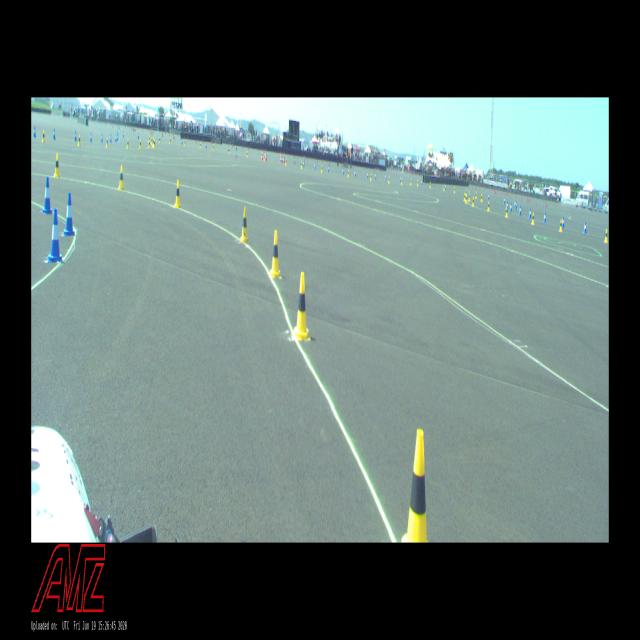blue_cone: (48, 208, 63, 262), (63, 192, 75, 236), (42, 176, 52, 214), (583, 221, 587, 234), (518, 205, 522, 216), (528, 208, 532, 218), (33, 126, 36, 138), (543, 212, 546, 224), (53, 129, 56, 140), (74, 131, 77, 141), (506, 200, 509, 210), (562, 216, 564, 228), (90, 132, 92, 142), (510, 203, 512, 212), (110, 133, 112, 142), (116, 132, 118, 141), (101, 134, 103, 142), (515, 201, 517, 209), (366, 171, 368, 179), (504, 197, 506, 204), (354, 170, 356, 177), (327, 165, 329, 172), (115, 133, 116, 142), (514, 200, 515, 208), (375, 173, 376, 180), (342, 168, 343, 175), (314, 163, 315, 170), (123, 131, 124, 138), (488, 193, 489, 199), (445, 184, 446, 190), (400, 176, 401, 182), (303, 161, 304, 167), (421, 180, 422, 185), (385, 174, 386, 179), (282, 157, 282, 163)
orange_cone: (265, 150, 267, 161), (283, 153, 285, 163), (280, 152, 281, 162), (262, 150, 263, 160)
yellow_cone: (401, 429, 428, 543), (294, 272, 311, 340), (270, 229, 281, 277), (240, 207, 248, 242), (174, 180, 181, 208), (53, 153, 61, 177), (118, 165, 125, 190), (604, 229, 608, 243), (559, 218, 563, 232), (42, 130, 45, 142), (487, 201, 490, 212), (505, 207, 508, 217), (532, 212, 534, 225), (106, 136, 108, 148), (78, 134, 80, 146), (127, 138, 129, 149), (472, 196, 474, 206), (480, 193, 482, 202), (140, 140, 142, 149), (465, 194, 467, 203), (370, 173, 372, 182), (153, 139, 155, 148), (468, 193, 470, 201), (475, 191, 477, 199), (454, 186, 456, 194), (410, 178, 412, 186), (148, 140, 150, 148), (151, 137, 153, 145), (443, 184, 445, 191), (429, 181, 431, 188), (401, 178, 403, 185), (347, 170, 349, 177), (285, 158, 287, 165), (464, 193, 465, 201), (388, 176, 389, 184), (301, 161, 302, 169), (417, 180, 418, 187), (321, 165, 322, 172), (264, 154, 265, 161), (247, 151, 248, 158), (229, 147, 230, 154), (184, 140, 185, 146), (170, 138, 171, 144), (213, 145, 214, 150), (200, 143, 201, 148), (149, 135, 150, 140)
